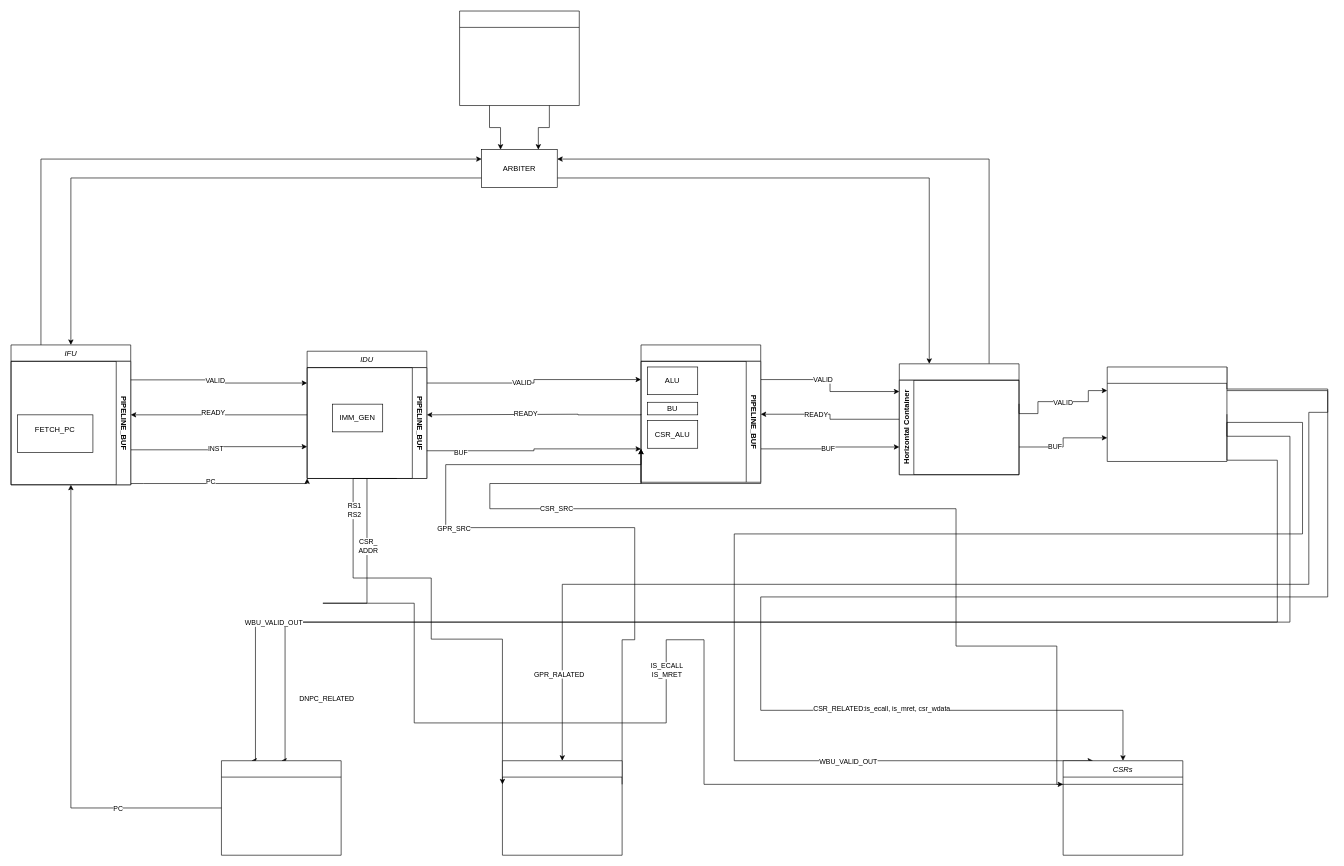
Image size: 1344x866. Some labels were removed from this diagram. The box of each missing label's shape, as (x1, y1, x2, y2) in pixels:
EXU: (640, 344, 761, 484)
GPRs: (502, 760, 622, 855)
LSU: (899, 363, 1019, 475)
MEM: (459, 10, 579, 106)
REG_PC: (221, 760, 341, 855)
WBU: (1107, 366, 1227, 461)
